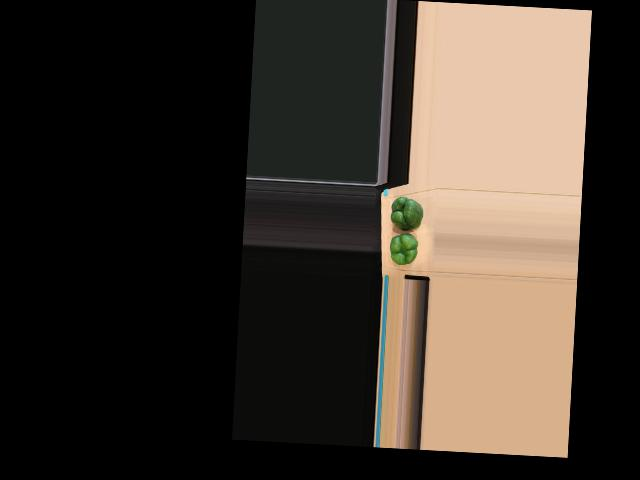bell_pepper: (388, 231, 422, 265)
